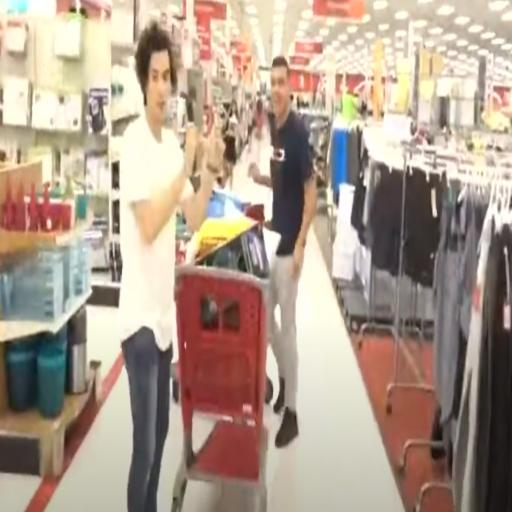shopping_cart: (171, 265, 270, 512)
